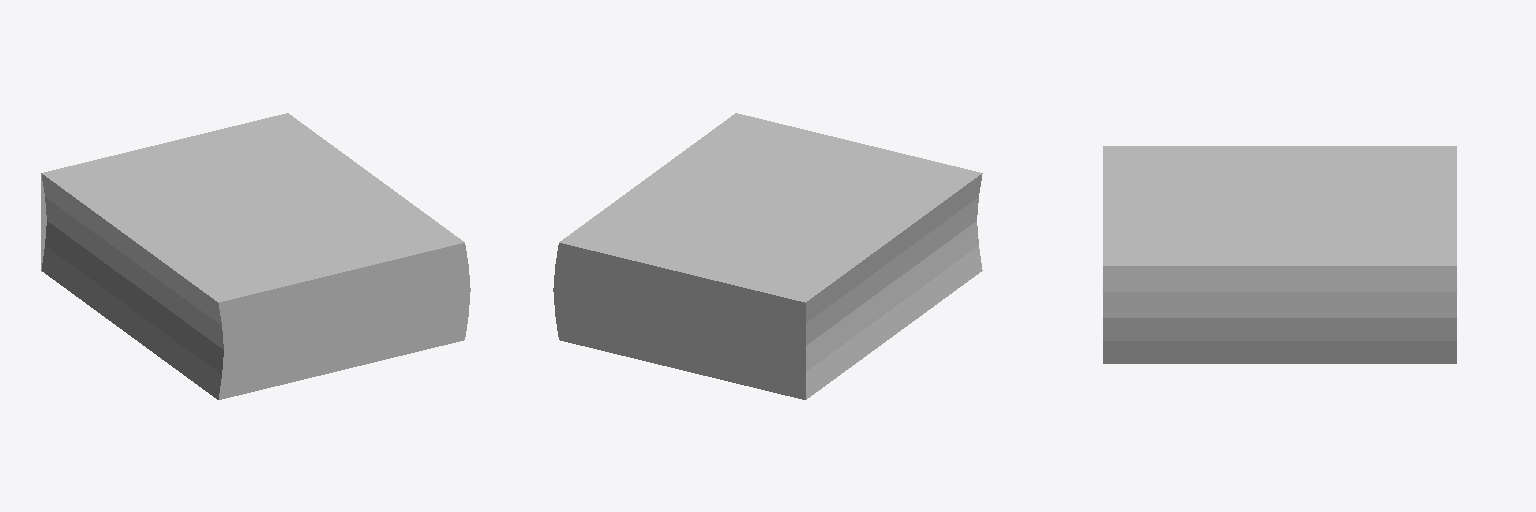
The model's file is book2.obj.
3 views of the same model, side by side, from view 1: azimuth 30°, elevation 25°; view 2: azimuth 150°, elevation 25°; view 3: azimuth 270°, elevation 25° (orthographic).
Visible parts, largest first — view 1: Cube.004; view 2: Cube.004; view 3: Cube.004.
Boxes of the visible parts, <box> form: Cube.004: <box>41,113,470,399</box>; Cube.004: <box>553,113,982,399</box>; Cube.004: <box>1103,146,1456,363</box>.
Size of the model in its own units: 0.1892 by 0.07 by 0.23.